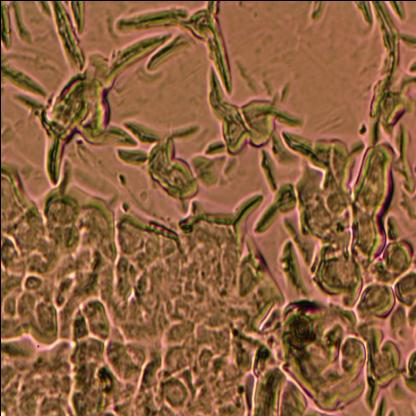Stage I: (0, 166, 416, 416)
